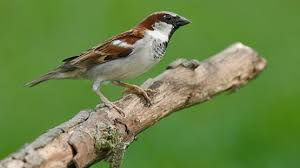hsparrow: (20, 7, 195, 113)
